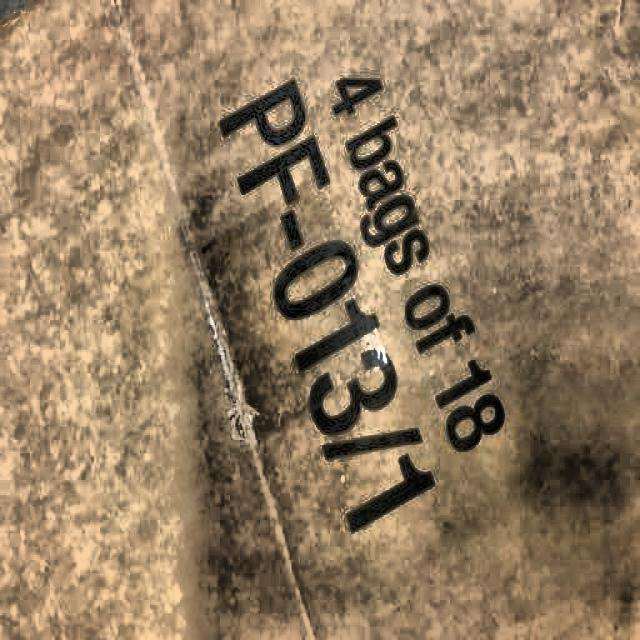cardboard: (3, 15, 621, 630)
